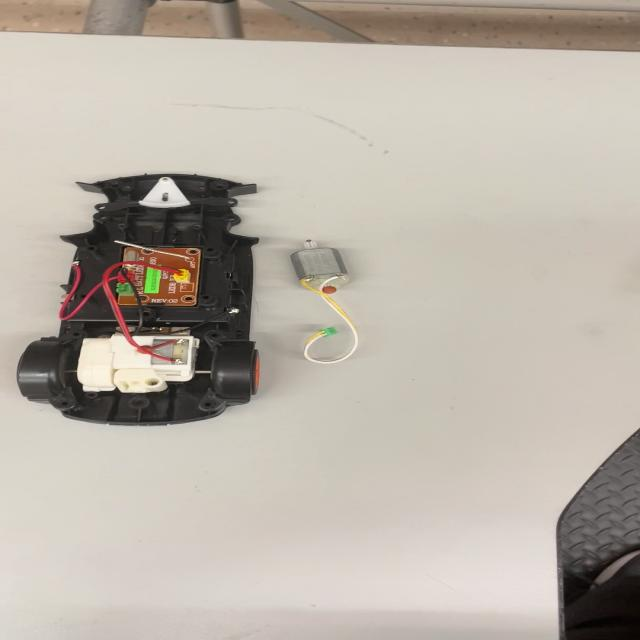Chassis: (13, 171, 267, 430)
motor: (283, 234, 367, 304)
